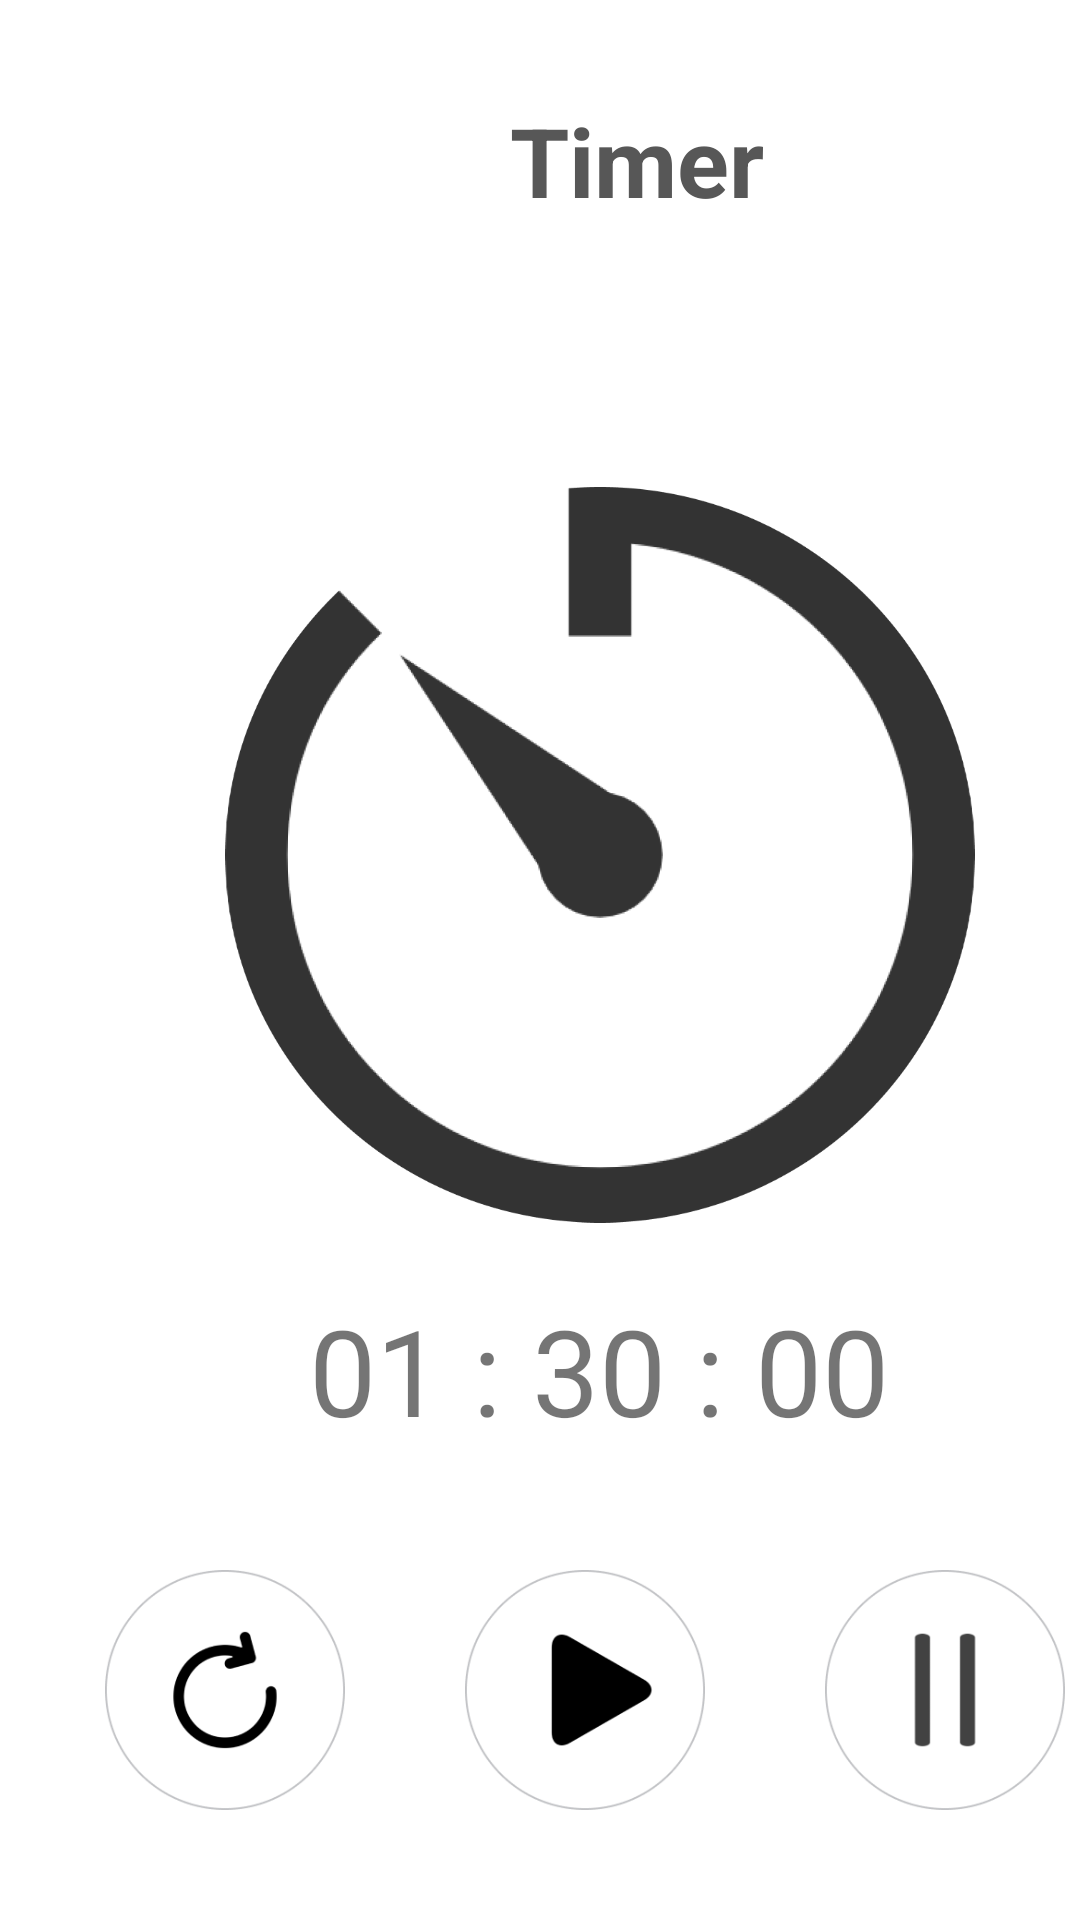

Named icons in this screenshot (1080px x 1920px) and their centers, point (x, y):
pause: point (945, 1690)
play: point (585, 1690)
reset: point (225, 1690)
